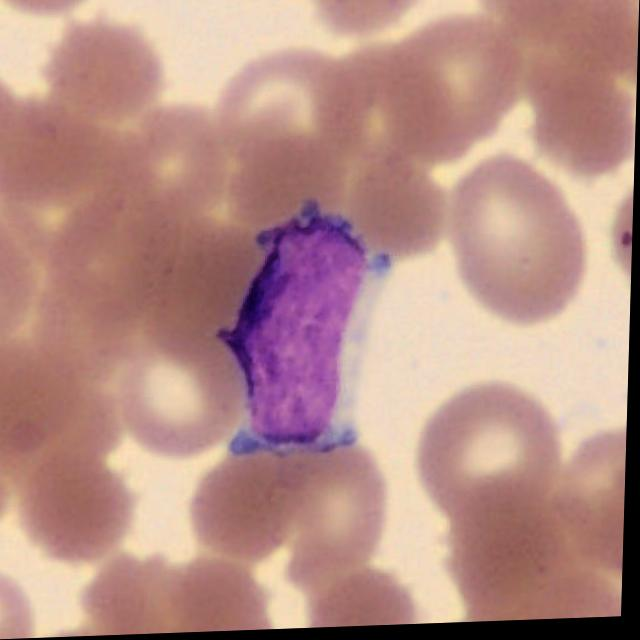Linfocito: (218, 200, 393, 454)
